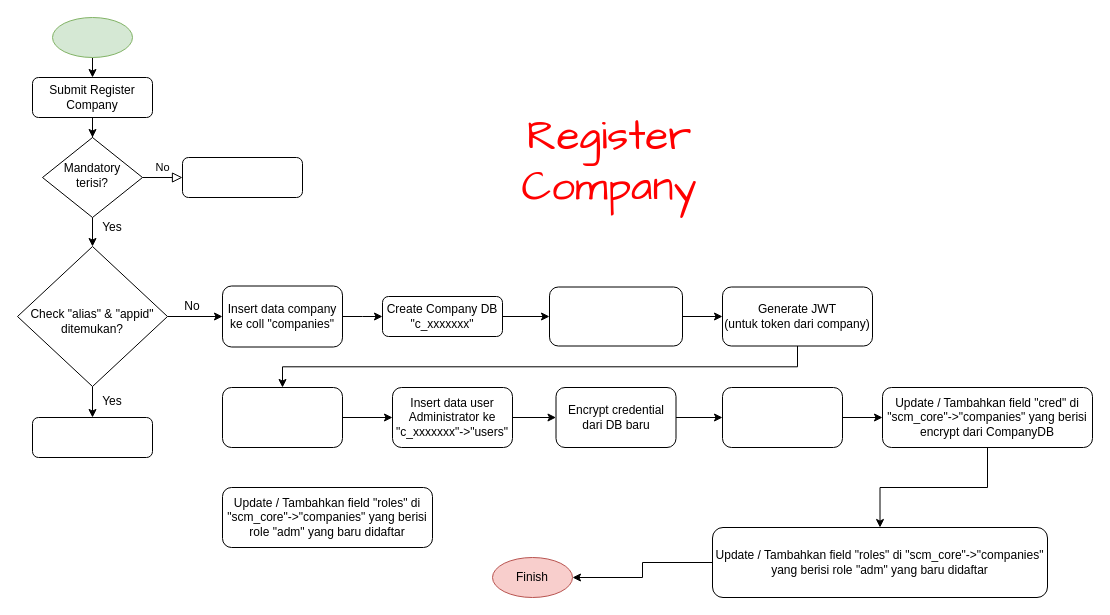
Image size: 1110x615. Some labels were removed from this diagram. Each missing label, with the box of its shape:
400,Company has been registered: (32, 416, 152, 458)
400,Field cannot be empty: (182, 156, 302, 198)
Create UserDB (credential dari DB baru): (548, 286, 682, 346)
Insert data role "adm" ke "c_xxxxxxx"->"role": (722, 386, 842, 448)
Insert data user Administrator ke "scm_core"->"users": (222, 386, 342, 448)
Start: (52, 16, 132, 58)
